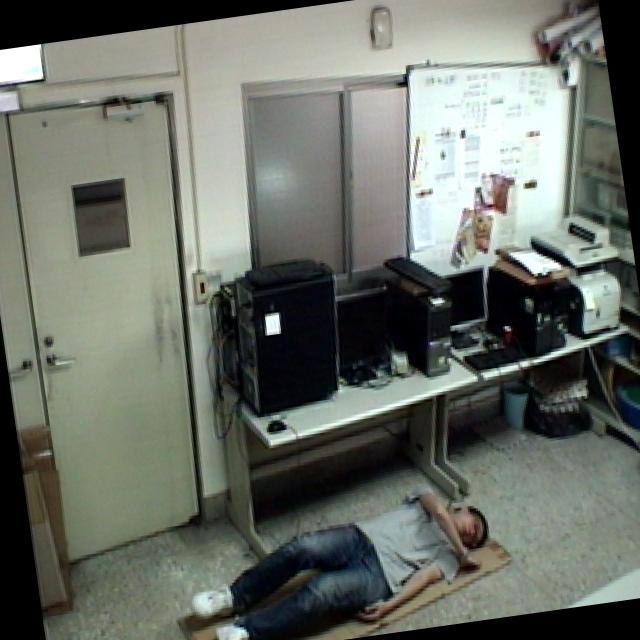lie: (168, 474, 503, 640)
